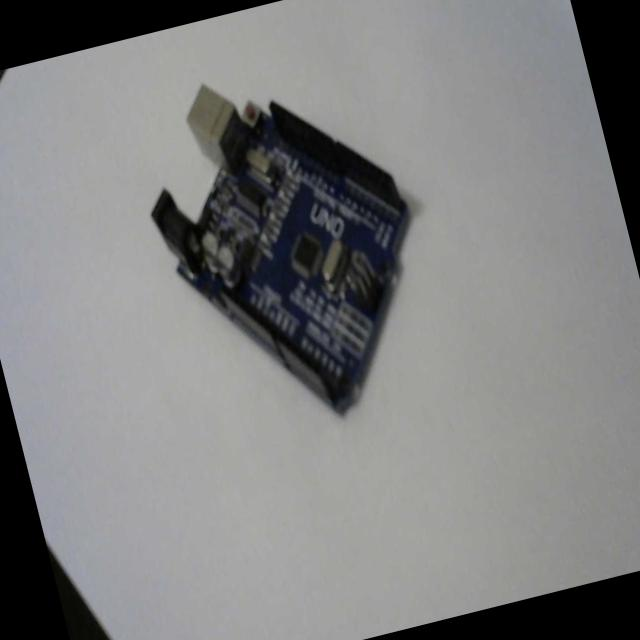arduino: (116, 35, 454, 455)
